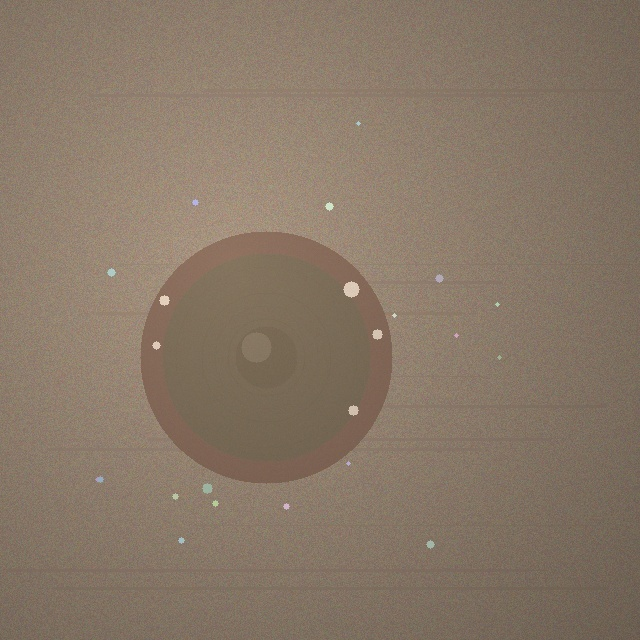overburn: (140, 231, 392, 483)
